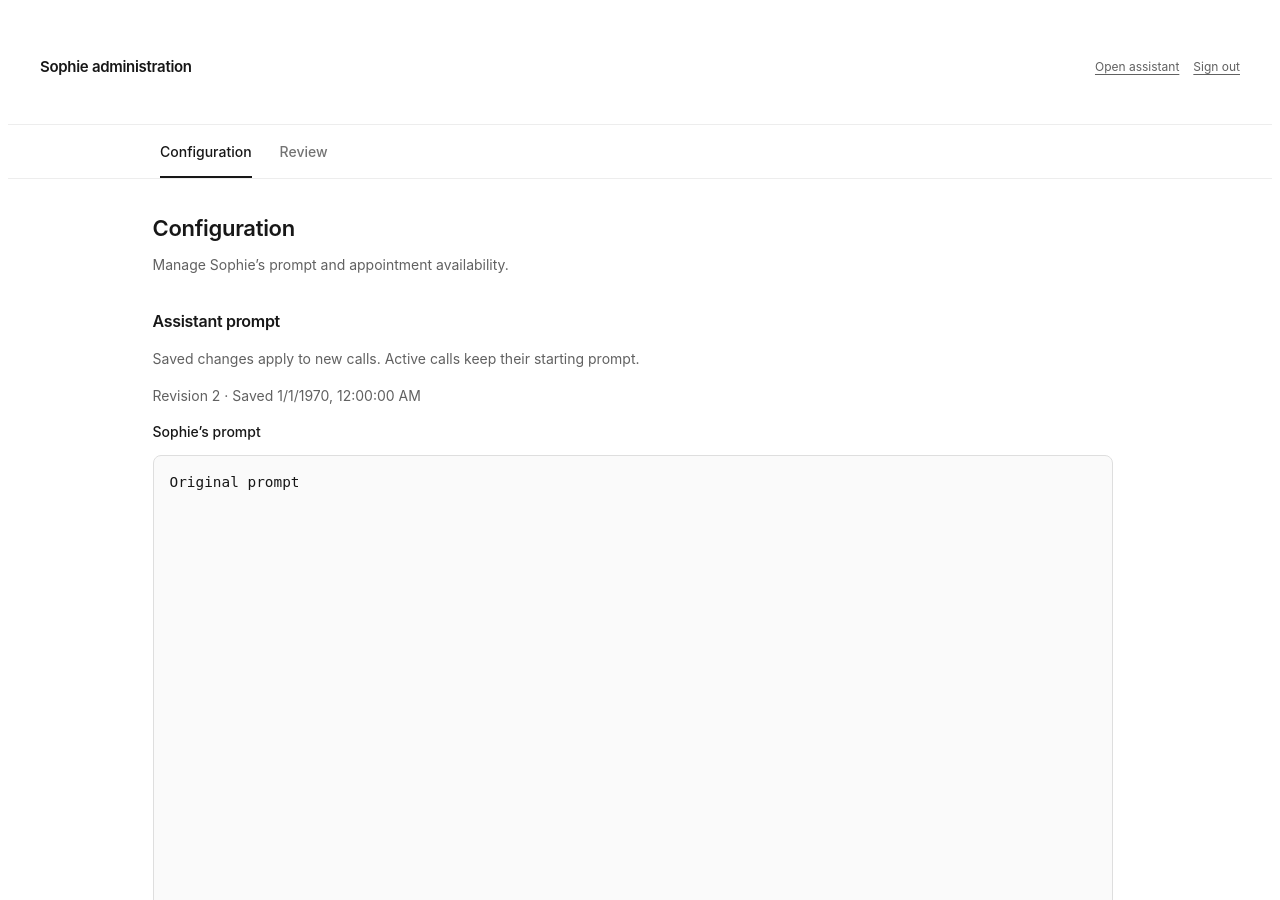
Test case: redirects to configuration and opens the review page without loading editors
Click the link "Review".
click(304, 152)  # box [280,143,328,160]
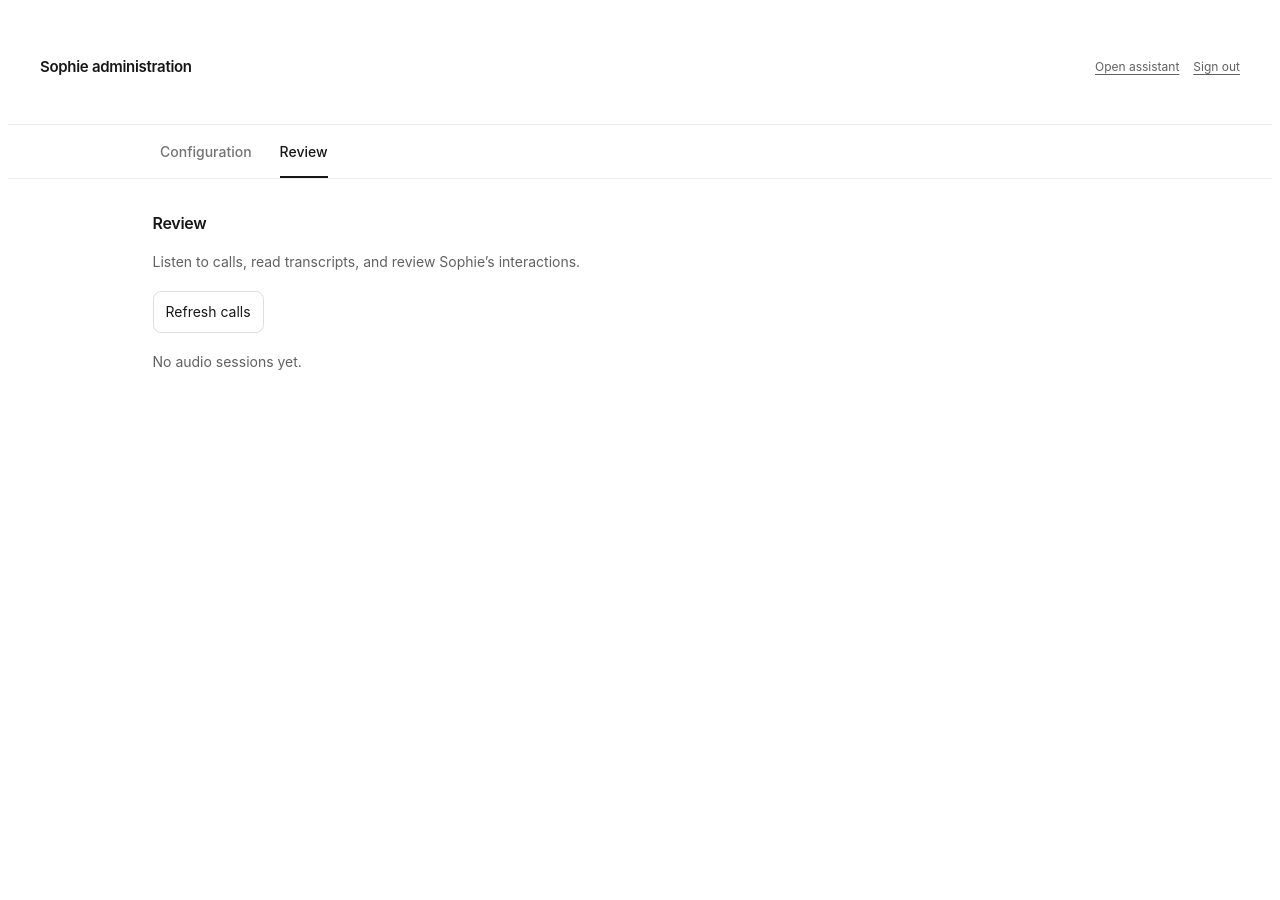
expect the element "Review" is shown: met, box [152,213,580,370]
expect the text labelled "Sophie’s prompt" is gone: met
